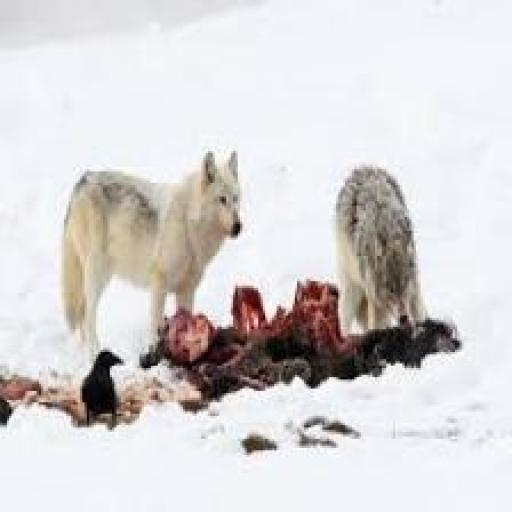wolf: (34, 148, 254, 348), (322, 167, 431, 344)
